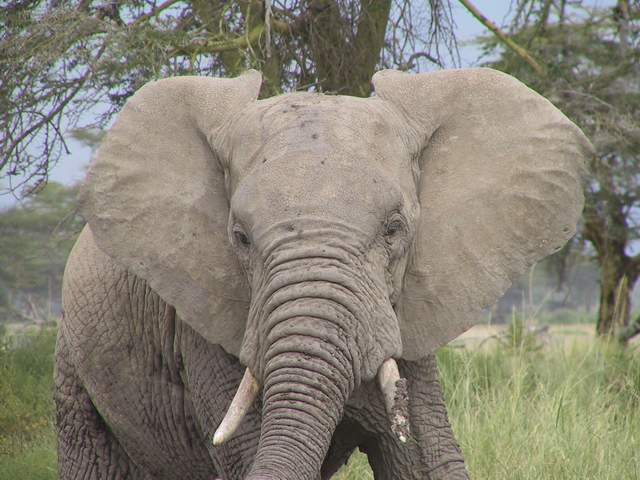elephant: (27, 53, 598, 480)
